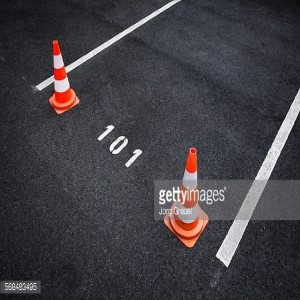traffic cone: (163, 147, 208, 248), (48, 39, 80, 114)
